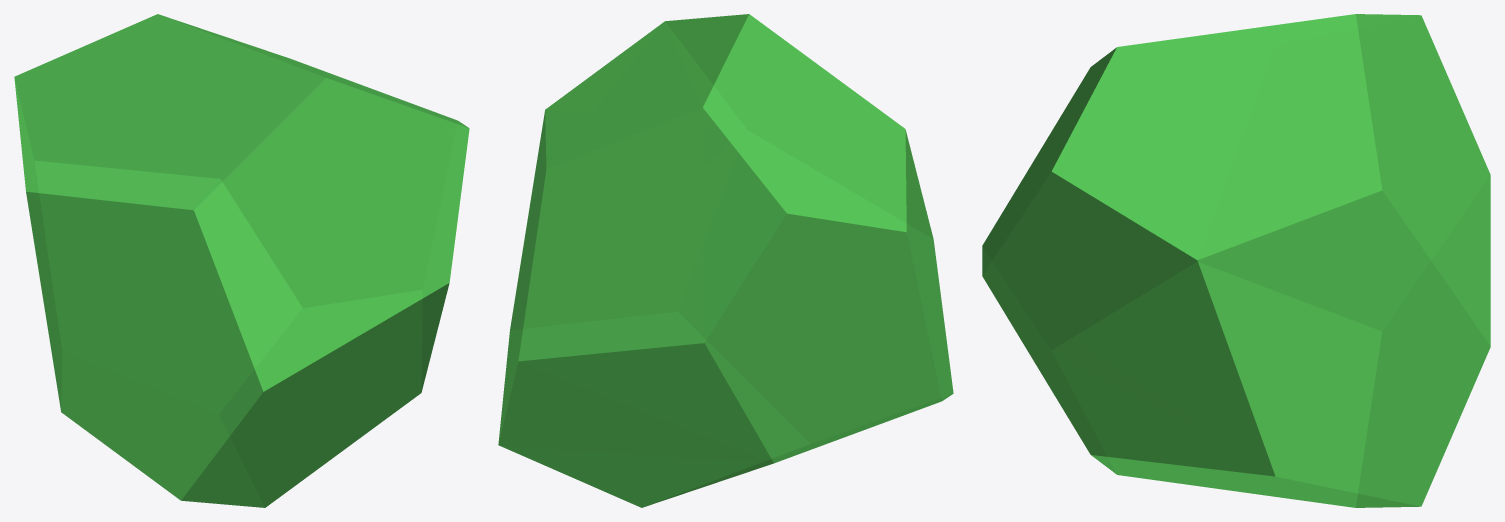
Rendered from Tetartoid.obj.
The picture shows the model from 3 angles, left to right: view 1: azimuth 30°, elevation 25°; view 2: azimuth 150°, elevation 25°; view 3: azimuth 270°, elevation 25°; orthographic projection. The views are drawn at different scales.
Size of the model in its own units: 22 by 22 by 22.
